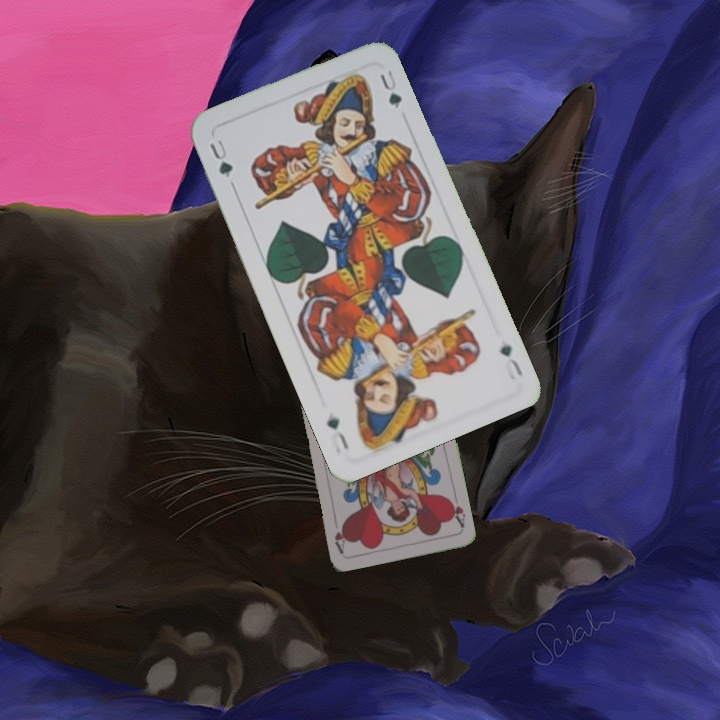GU: (205, 135, 236, 181), (495, 340, 525, 383)
HA: (444, 491, 468, 531)
